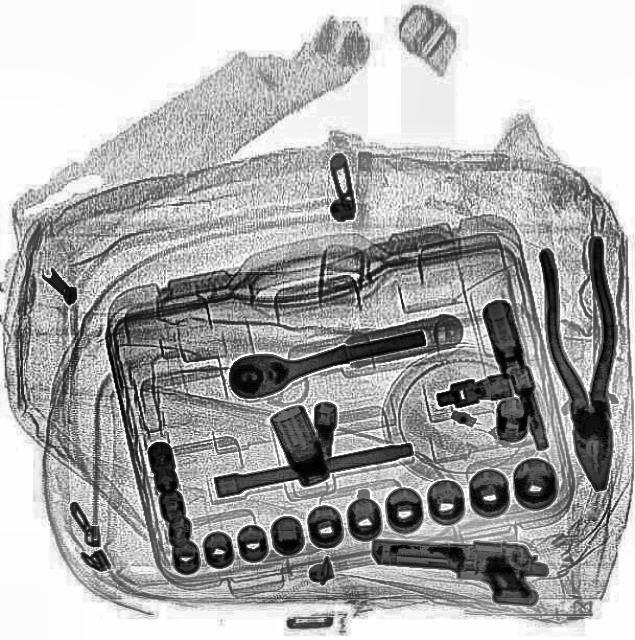Gun: (366, 534, 548, 604)
Pliers: (536, 236, 634, 490)
